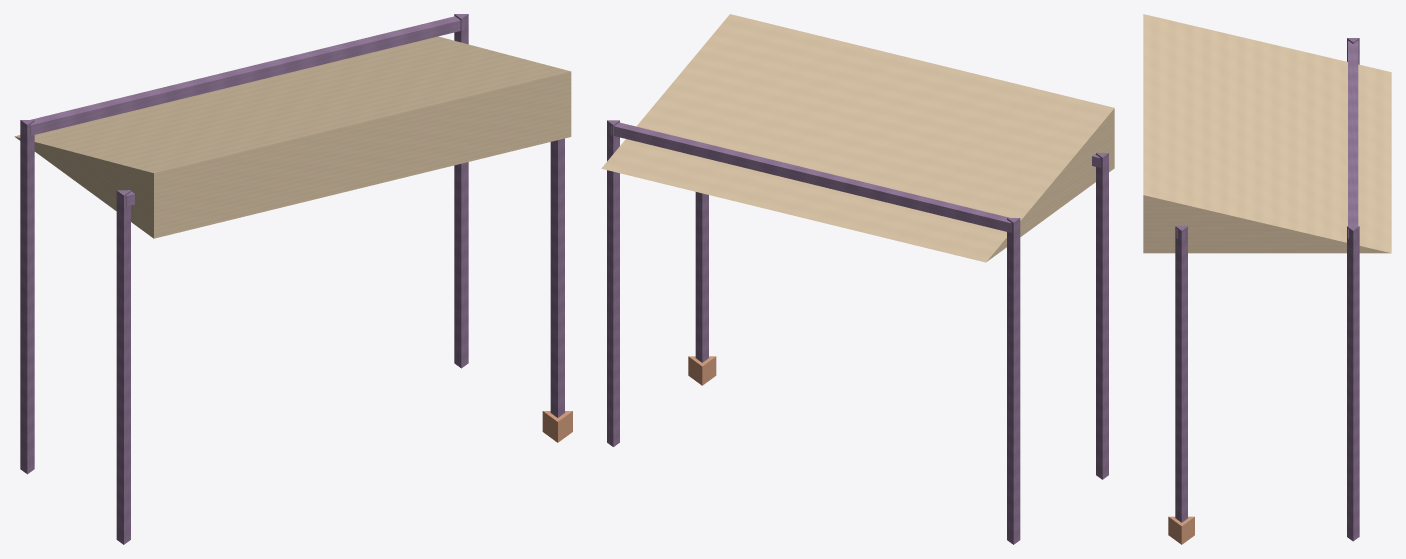
File: atlas100-s081-a08.lod2.glb
3 renders of one model, left to right at view 1: azimuth 30°, elevation 25°; view 2: azimuth 150°, elevation 25°; view 3: azimuth 270°, elevation 25°, orthographic. The views are drawn at different scales.
Parts seen in each view (by area): view 1: atlas100-s081-a08:part-010, atlas100-s081-a08:part-012, atlas100-s081-a08:part-014, atlas100-s081-a08:part-011, atlas100-s081-a08:part-013, atlas100-s081-a08:part-008, atlas100-s081-a08:part-002, atlas100-s081-a08:part-000, atlas100-s081-a08:part-006, atlas100-s081-a08:part-004, atlas100-s081-a08:part-007; view 2: atlas100-s081-a08:part-010, atlas100-s081-a08:part-013, atlas100-s081-a08:part-011, atlas100-s081-a08:part-014, atlas100-s081-a08:part-012, atlas100-s081-a08:part-008, atlas100-s081-a08:part-000, atlas100-s081-a08:part-002, atlas100-s081-a08:part-004, atlas100-s081-a08:part-006, atlas100-s081-a08:part-007; view 3: atlas100-s081-a08:part-014, atlas100-s081-a08:part-010, atlas100-s081-a08:part-013, atlas100-s081-a08:part-012, atlas100-s081-a08:part-011, atlas100-s081-a08:part-004, atlas100-s081-a08:part-006, atlas100-s081-a08:part-008, atlas100-s081-a08:part-007.
Boxes of the visible parts, box(x1,y1,x2,y2) form: atlas100-s081-a08:part-010: box(14, 118, 237, 238); atlas100-s081-a08:part-012: box(188, 77, 404, 197); atlas100-s081-a08:part-014: box(355, 36, 571, 156); atlas100-s081-a08:part-011: box(105, 97, 320, 218); atlas100-s081-a08:part-013: box(271, 57, 487, 177); atlas100-s081-a08:part-008: box(30, 16, 464, 135); atlas100-s081-a08:part-002: box(116, 190, 130, 544); atlas100-s081-a08:part-000: box(20, 120, 34, 474); atlas100-s081-a08:part-006: box(550, 138, 564, 417); atlas100-s081-a08:part-004: box(454, 14, 468, 368); atlas100-s081-a08:part-007: box(542, 411, 572, 442); atlas100-s081-a08:part-010: box(909, 89, 1114, 262); atlas100-s081-a08:part-013: box(678, 33, 883, 205); atlas100-s081-a08:part-011: box(832, 70, 1037, 243); atlas100-s081-a08:part-014: box(601, 14, 806, 187); atlas100-s081-a08:part-012: box(755, 51, 960, 224); atlas100-s081-a08:part-008: box(610, 122, 1011, 232); atlas100-s081-a08:part-000: box(1007, 218, 1020, 544); atlas100-s081-a08:part-002: box(1096, 153, 1108, 479); atlas100-s081-a08:part-004: box(607, 120, 619, 446); atlas100-s081-a08:part-006: box(695, 192, 708, 362); atlas100-s081-a08:part-007: box(688, 356, 716, 385); atlas100-s081-a08:part-014: box(1143, 159, 1391, 253); atlas100-s081-a08:part-010: box(1143, 14, 1391, 108); atlas100-s081-a08:part-013: box(1143, 122, 1391, 216); atlas100-s081-a08:part-012: box(1143, 86, 1391, 180); atlas100-s081-a08:part-011: box(1143, 50, 1391, 144); atlas100-s081-a08:part-004: box(1347, 226, 1359, 541); atlas100-s081-a08:part-006: box(1175, 226, 1187, 522); atlas100-s081-a08:part-008: box(1348, 41, 1358, 238); atlas100-s081-a08:part-007: box(1168, 516, 1194, 544).
Bounding box in the file's own units: 5.42 × 4.38 × 2.9.
Materials: 3 (3 with a texture image).
